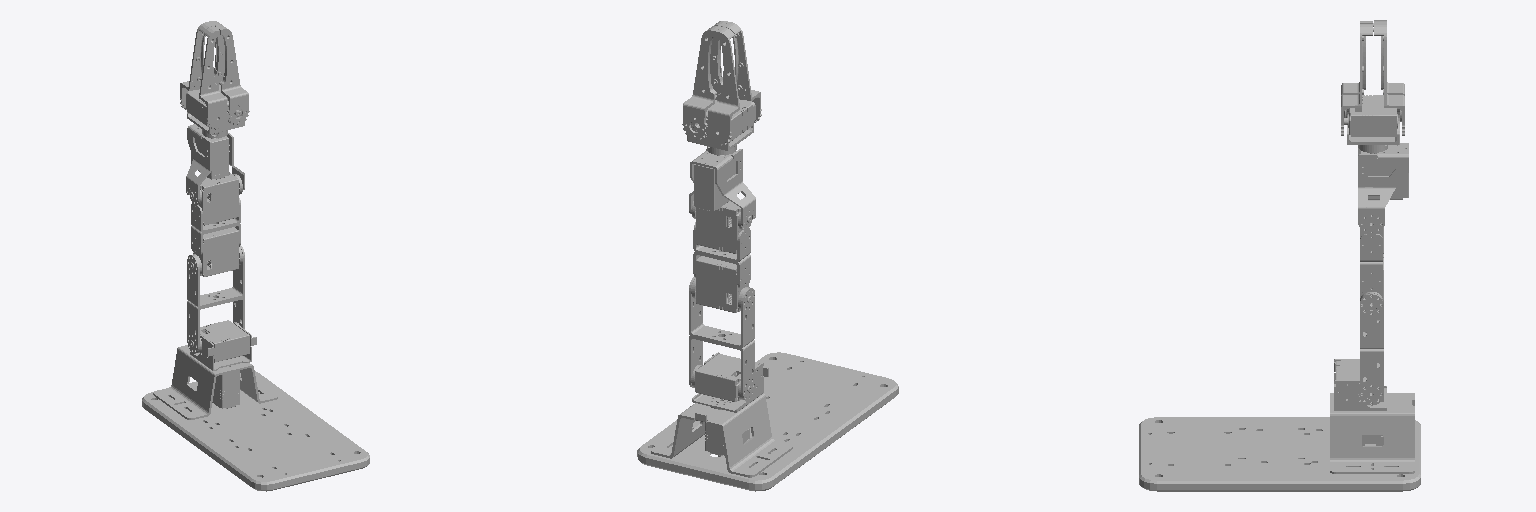
URDF robot description (robo_description):
<?xml version="1.0" encoding="utf-8"?>
<!-- This URDF was automatically created by SolidWorks to URDF Exporter! Originally created by [author] ([email redacted]) 
     Commit Version: 1.6.0-4-g7f85cfe  Build Version: 1.6.7995.38578
     For more information, please see http://wiki.ros.org/sw_urdf_exporter -->
<robot
  name="robo_description">
  <link
    name="base_link">
    <visual>
      <origin
        xyz="0 0 0"
        rpy="0 0 0" />
      <geometry>
        <mesh
          filename="package://robo_description/meshes/visual/base_link.STL" />
      </geometry>
      <material
        name="">
        <color
          rgba="0.752941176470588 0.752941176470588 0.752941176470588 1" />
      </material>
    </visual>
    <collision>
      <origin
        xyz="0 0 0"
        rpy="0 0 0" />
      <geometry>
        <mesh
          filename="package://robo_description/meshes/visual/base_link.STL" />
      </geometry>
    </collision>
  </link>
  <link
    name="robot_link1">
    <visual>
      <origin
        xyz="0 0 0"
        rpy="0 0 0" />
      <geometry>
        <mesh
          filename="package://robo_description/meshes/visual/robot_link1.STL" />
      </geometry>
      <material
        name="">
        <color
          rgba="0.752941176470588 0.752941176470588 0.752941176470588 1" />
      </material>
    </visual>
    <collision>
      <origin
        xyz="0 0 0"
        rpy="0 0 0" />
      <geometry>
        <mesh
          filename="package://robo_description/meshes/visual/robot_link1.STL" />
      </geometry>
    </collision>
  </link>
  <joint
    name="robot_joint1"
    type="revolute">
    <origin
      xyz="-4.10730256436539E-05 0.0800931563628078 0.0537499999998397"
      rpy="0 0 0" />
    <parent
      link="base_link" />
    <child
      link="robot_link1" />
    <axis
      xyz="0 0 1" />
    <limit
      lower="-3.1"
      upper="3.1"
      effort="30"
      velocity="50.000001" />
  </joint>
  <link
    name="robot_link2">
    <visual>
      <origin
        xyz="0 0 0"
        rpy="0 0 0" />
      <geometry>
        <mesh
          filename="package://robo_description/meshes/visual/robot_link2.STL" />
      </geometry>
      <material
        name="">
        <color
          rgba="0.752941176470588 0.752941176470588 0.752941176470588 1" />
      </material>
    </visual>
    <collision>
      <origin
        xyz="0 0 0"
        rpy="0 0 0" />
      <geometry>
        <mesh
          filename="package://robo_description/meshes/visual/robot_link2.STL" />
      </geometry>
    </collision>
  </link>
  <joint
    name="robot_joint2"
    type="revolute">
    <origin
      xyz="0.00019999999985654 -0.000803554524565649 0.0178874681170878"
      rpy="-1.57107697491636 0 1.5702615513509" />
    <parent
      link="robot_link1" />
    <child
      link="robot_link2" />
    <axis
      xyz="0 0 1" />
    <limit
      lower="-3.1"
      upper="3.1"
      effort="30"
      velocity="50.000001" />
  </joint>
  <link
    name="robot_link3">
    <visual>
      <origin
        xyz="0 0 0"
        rpy="0 0 0" />
      <geometry>
        <mesh
          filename="package://robo_description/meshes/visual/robot_link3.STL" />
      </geometry>
      <material
        name="">
        <color
          rgba="0.752941176470588 0.752941176470588 0.752941176470588 1" />
      </material>
    </visual>
    <collision>
      <origin
        xyz="0 0 0"
        rpy="0 0 0" />
      <geometry>
        <mesh
          filename="package://robo_description/meshes/visual/robot_link3.STL" />
      </geometry>
    </collision>
  </link>
  <joint
    name="robot_joint3"
    type="revolute">
    <origin
      xyz="-1.28346100440498E-05 -0.0814055936788621 -2.28531912174905E-05"
      rpy="0.000280648161581886 -0.000534775422932215 0" />
    <parent
      link="robot_link2" />
    <child
      link="robot_link3" />
    <axis
      xyz="0 0 1" />
    <limit
      lower="-3.1"
      upper="3.1"
      effort="30"
      velocity="50.000001" />
  </joint>
  <link
    name="robot_link4">
    <visual>
      <origin
        xyz="0 0 0"
        rpy="0 0 0" />
      <geometry>
        <mesh
          filename="package://robo_description/meshes/visual/robot_link4.STL" />
      </geometry>
      <material
        name="">
        <color
          rgba="0.752941176470588 0.752941176470588 0.752941176470588 1" />
      </material>
    </visual>
    <collision>
      <origin
        xyz="0 0 0"
        rpy="0 0 0" />
      <geometry>
        <mesh
          filename="package://robo_description/meshes/visual/robot_link4.STL" />
      </geometry>
    </collision>
  </link>
  <joint
    name="robot_joint4"
    type="revolute">
    <origin
      xyz="0 -0.07335 0.00045"
      rpy="0 0 0" />
    <parent
      link="robot_link3" />
    <child
      link="robot_link4" />
    <axis
      xyz="0 0 1" />
    <limit
      lower="-3.1"
      upper="3.1"
      effort="30"
      velocity="50.000001" />
  </joint>
  <link
    name="hand_link">
    <visual>
      <origin
        xyz="0 0 0"
        rpy="0 0 0" />
      <geometry>
        <mesh
          filename="package://robo_description/meshes/visual/hand_link.STL" />
      </geometry>
      <material
        name="">
        <color
          rgba="0.752941176470588 0.752941176470588 0.752941176470588 1" />
      </material>
    </visual>
    <collision>
      <origin
        xyz="0 0 0"
        rpy="0 0 0" />
      <geometry>
        <mesh
          filename="package://robo_description/meshes/visual/hand_link.STL" />
      </geometry>
    </collision>
  </link>
  <joint
    name="hand_joint"
    type="revolute">
    <origin
      xyz="0.001325 -0.17024 0"
      rpy="1.5708 1.5708 0" />
    <parent
      link="robot_link4" />
    <child
      link="hand_link" />
    <axis
      xyz="0 0 -1" />
    <limit
      lower="-3.1"
      upper="3.1"
      effort="30"
      velocity="50.000001" />
  </joint>
  <link
    name="left_link">
    <visual>
      <origin
        xyz="0 0 0"
        rpy="0 0 0" />
      <geometry>
        <mesh
          filename="package://robo_description/meshes/visual/left_link.STL" />
      </geometry>
      <material
        name="">
        <color
          rgba="0.752941176470588 0.752941176470588 0.752941176470588 1" />
      </material>
    </visual>
    <collision>
      <origin
        xyz="0 0 0"
        rpy="0 0 0" />
      <geometry>
        <mesh
          filename="package://robo_description/meshes/visual/left_link.STL" />
      </geometry>
    </collision>
  </link>
  <joint
    name="left_joint"
    type="revolute">
    <origin
      xyz="0.0105 0 -0.083439"
      rpy="1.5708 0 0" />
    <parent
      link="hand_link" />
    <child
      link="left_link" />
    <axis
      xyz="0 0 1" />
    <limit
      lower="-3.1"
      upper="3.1"
      effort="30"
      velocity="50.000001" />
  </joint>
  <link
    name="right_link">
    <visual>
      <origin
        xyz="0 0 0"
        rpy="0 0 0" />
      <geometry>
        <mesh
          filename="package://robo_description/meshes/visual/right_link.STL" />
      </geometry>
      <material
        name="">
        <color
          rgba="0.752941176470588 0.752941176470588 0.752941176470588 1" />
      </material>
    </visual>
    <collision>
      <origin
        xyz="0 0 0"
        rpy="0 0 0" />
      <geometry>
        <mesh
          filename="package://robo_description/meshes/visual/right_link.STL" />
      </geometry>
    </collision>
  </link>
  <joint
    name="right_joint"
    type="revolute">
    <origin
      xyz="-0.0115 0 -0.083439"
      rpy="-1.5708 0 3.1416" />
    <parent
      link="hand_link" />
    <child
      link="right_link" />
    <axis
      xyz="0 0 -1" />
    <limit
      lower="-3.1"
      upper="3.1"
      effort="30"
      velocity="50.000001" />
    <mimic joint="left_joint" />
  </joint>
</robot>

--- Facts derived from the render (not from the file) ---
Views: 3 orthographic renders of the robot side by side, from view 1: azimuth 30°, elevation 25°; view 2: azimuth 150°, elevation 25°; view 3: azimuth 270°, elevation 25°.
Model robo_description with 8 links and 7 joints (7 revolute), rooted at base_link, posed every joint at zero.
Visible links, largest first — view 1: base_link, robot_link3, right_link, robot_link4, robot_link2, robot_link1, left_link, hand_link; view 2: base_link, robot_link3, robot_link4, right_link, robot_link2, robot_link1, left_link, hand_link; view 3: base_link, robot_link4, robot_link2, hand_link, robot_link3, robot_link1, left_link, right_link.
Boxes of the visible links, box(x1,y1,x2,y2) form: base_link: box(142, 345, 369, 491); robot_link3: box(190, 173, 242, 276); right_link: box(180, 22, 228, 129); robot_link4: box(186, 124, 244, 200); robot_link2: box(187, 245, 244, 353); robot_link1: box(190, 320, 256, 370); left_link: box(209, 21, 249, 125); hand_link: box(186, 85, 244, 134); base_link: box(637, 352, 898, 491); robot_link3: box(691, 201, 752, 312); robot_link4: box(689, 145, 755, 225); right_link: box(706, 22, 761, 145); robot_link2: box(689, 277, 754, 400); robot_link1: box(691, 352, 768, 412); left_link: box(682, 21, 727, 140); hand_link: box(687, 95, 755, 150); base_link: box(1139, 393, 1420, 491); robot_link4: box(1358, 143, 1408, 227); robot_link2: box(1360, 293, 1383, 405); hand_link: box(1344, 95, 1401, 144); robot_link3: box(1360, 200, 1383, 313); robot_link1: box(1334, 359, 1386, 410); left_link: box(1341, 23, 1404, 135); right_link: box(1341, 20, 1404, 95).
Bounding box of the posed robot: 0.1276 × 0.2335 × 0.3971 m (x, y, z).
8 mesh visuals loaded from 8 distinct referenced files (8 binary STL).